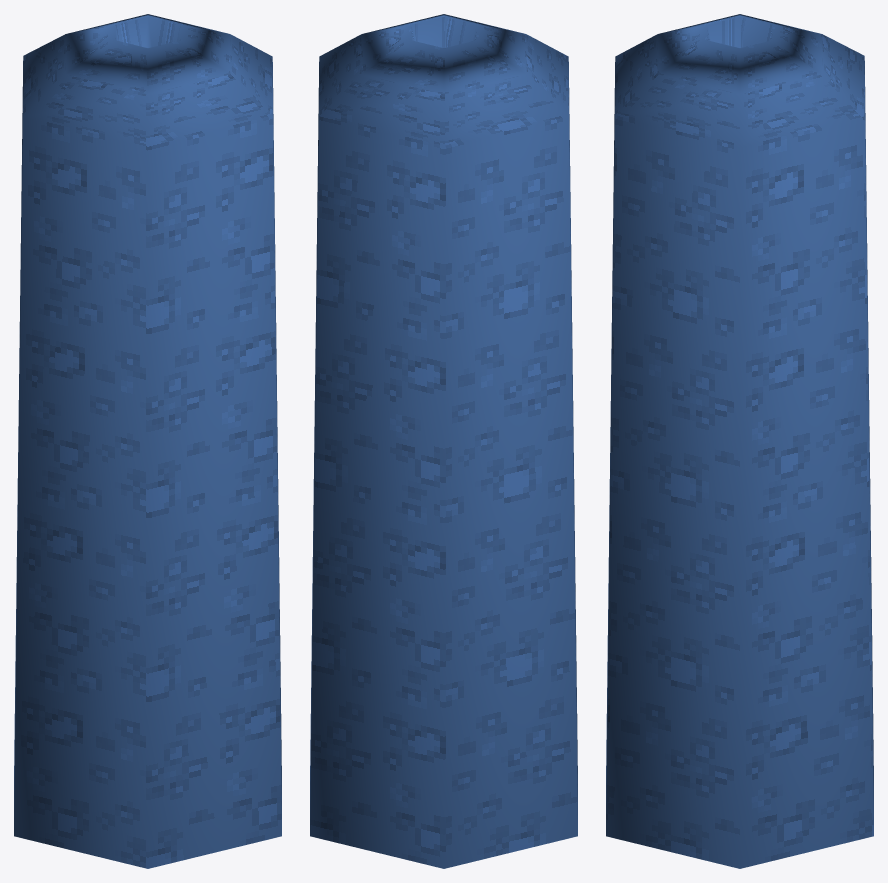
Rendered from Fountain.FBX.
3 renders of one model, left to right at view 1: azimuth 30°, elevation 25°; view 2: azimuth 150°, elevation 25°; view 3: azimuth 270°, elevation 25°, orthographic.
Parts seen in each view (by area): view 1: Fountain; view 2: Fountain; view 3: Fountain.
Part boxes in pixels (left/top/right/bottom): Fountain: left=14, top=14, right=281, bottom=868; Fountain: left=310, top=14, right=577, bottom=868; Fountain: left=606, top=14, right=873, bottom=868.
Bounding box in the file's own units: 304 × 853 × 263.
